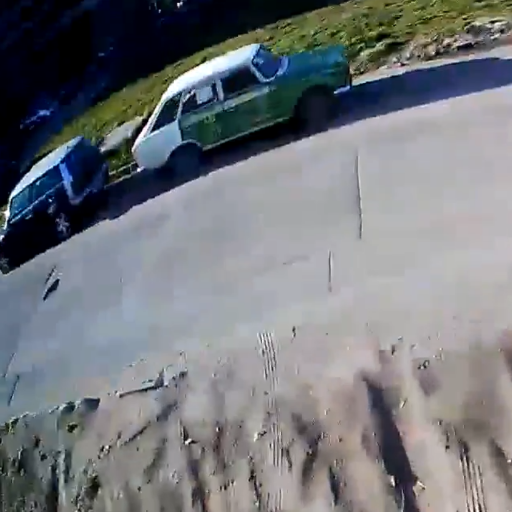Car: (131, 42, 348, 176), (2, 136, 103, 266)
